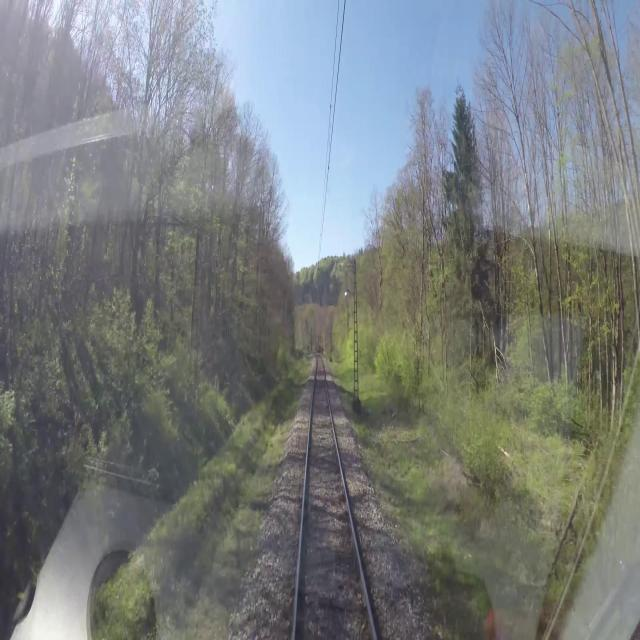rail-track: (297, 357, 372, 639)
